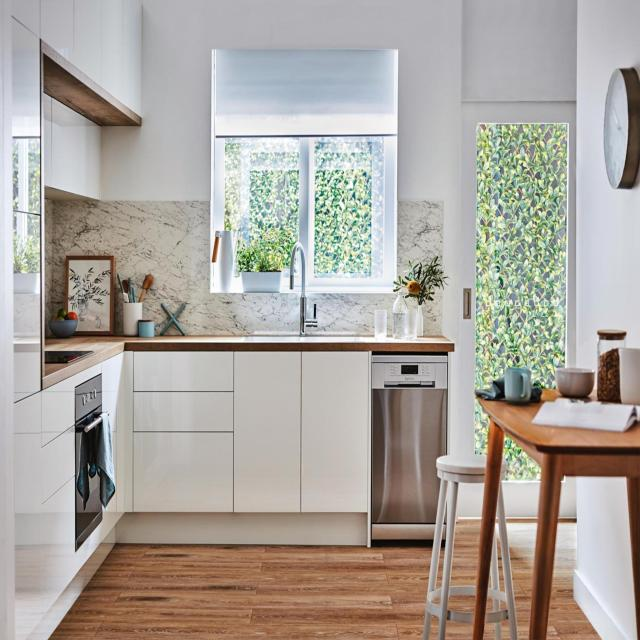dishwasher: (365, 343, 452, 553)
